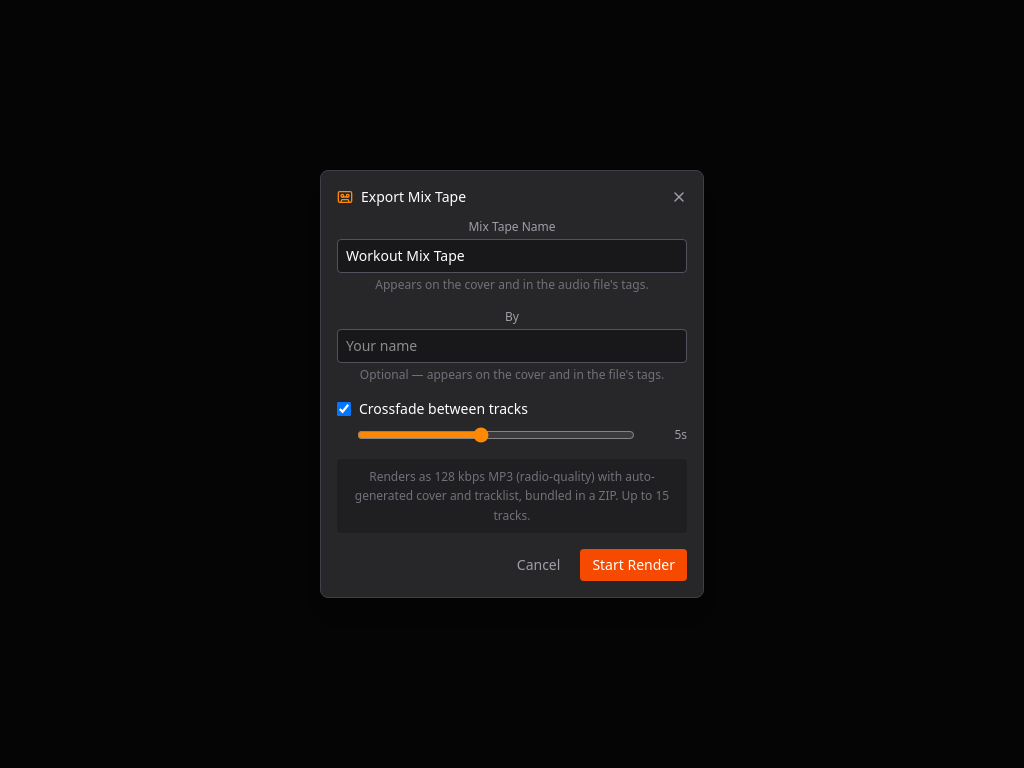
Test: ExportMixTapeModal › shows the duration slider when crossfade is checked, hides when unchecked
Expected: the text "5s" is shown, [674,426,687,443]
Click the checkbox. click: (344, 409)
box: [337,402,351,416]
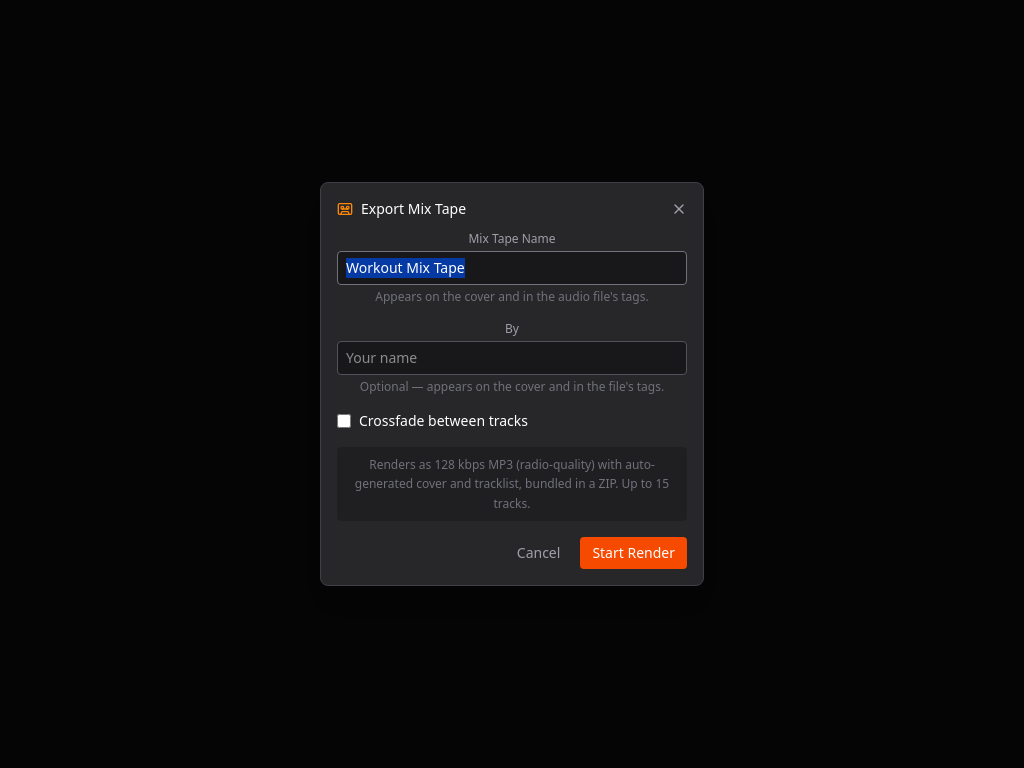
Expected: the text "5s" is gone
